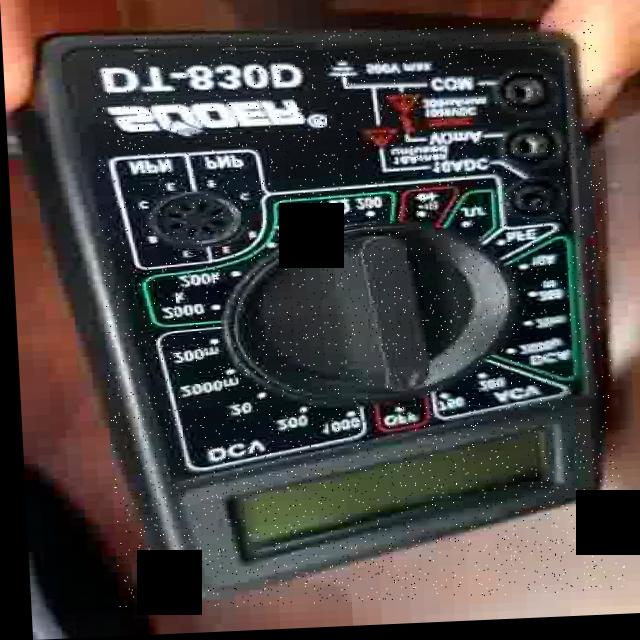multimeter: (90, 23, 619, 613)
